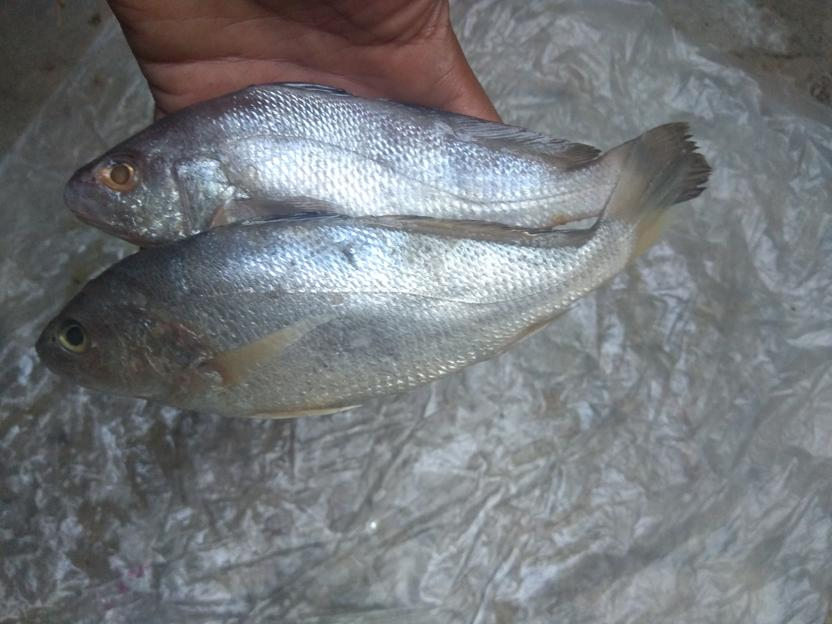Fish head: (34, 248, 198, 397), (63, 112, 240, 250)
Fish tail: (597, 135, 689, 274), (611, 120, 711, 204)
